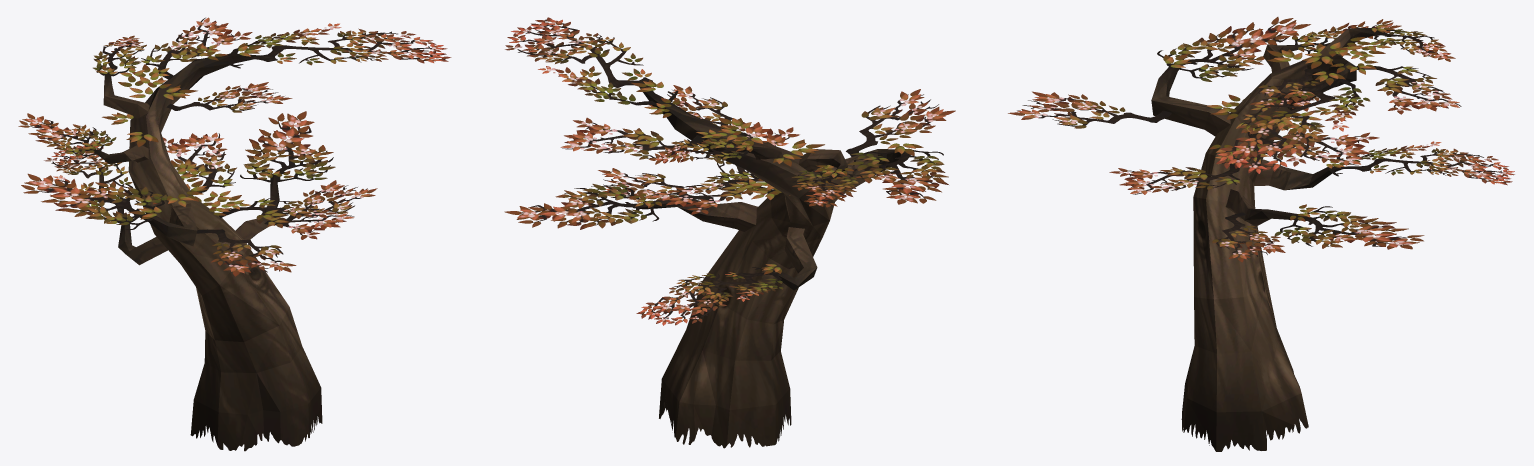
The model's file is cherrytree_03.fbx.
3 views of the same model, side by side, from view 1: azimuth 30°, elevation 25°; view 2: azimuth 150°, elevation 25°; view 3: azimuth 270°, elevation 25° (orthographic). The views are drawn at different scales.
Parts seen in each view (by area): view 1: obj1.005; view 2: obj1.005; view 3: obj1.005.
Boxes of the visible parts, x1=… form: obj1.005: x1=18, y1=17, x2=451, y2=451; obj1.005: x1=504, y1=17, x2=955, y2=448; obj1.005: x1=1008, y1=17, x2=1514, y2=451.
Bounding box in the file's own units: 9.3 × 7.12 × 9.22.
